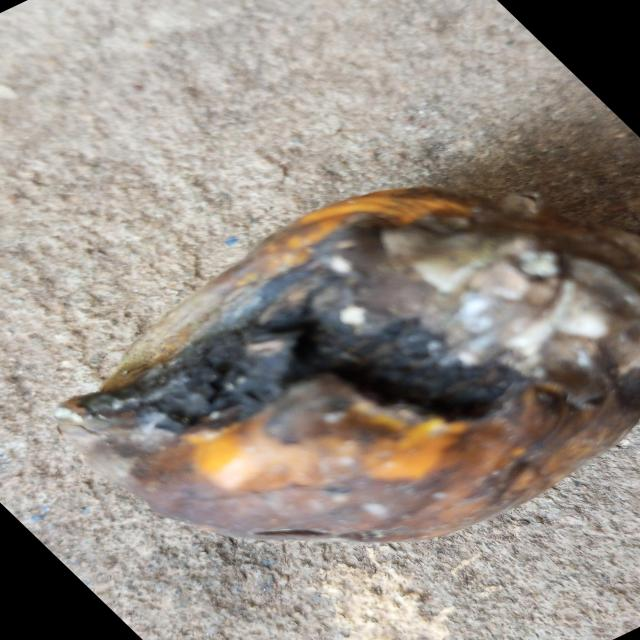damaged: (55, 185, 640, 546)
